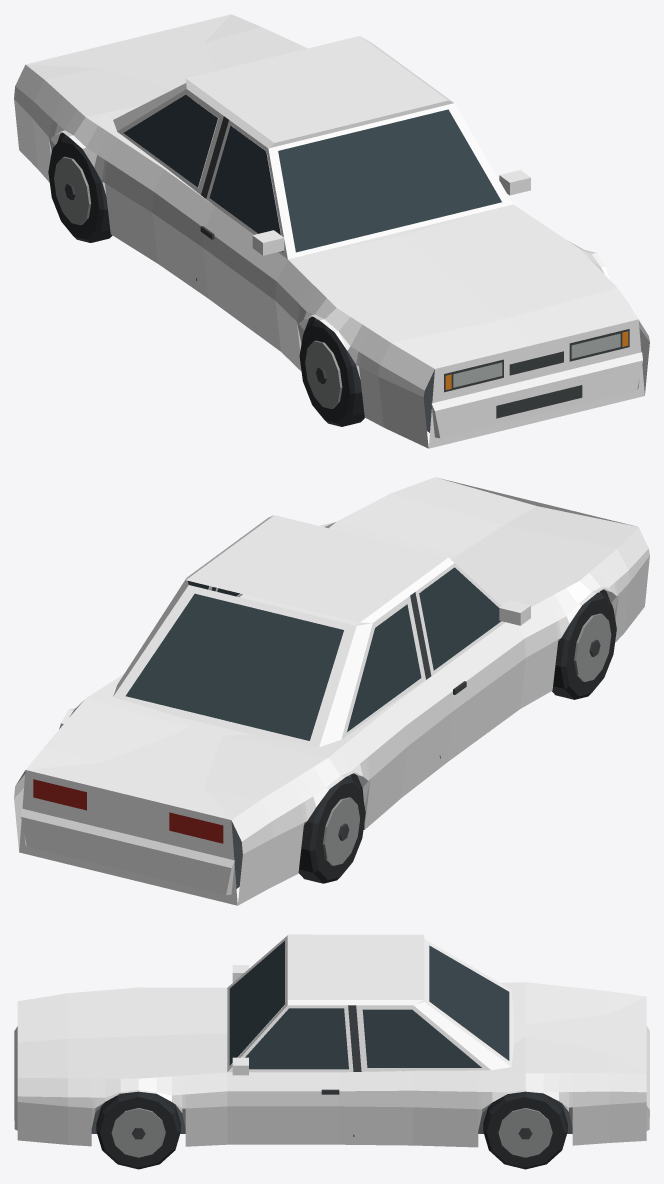
The model's file is hayase_akane.glb.
The picture shows the model from 3 angles, top to bottom: view 1: azimuth 30°, elevation 25°; view 2: azimuth 150°, elevation 25°; view 3: azimuth 270°, elevation 25°; orthographic projection. The views are drawn at different scales.
Parts seen in each view (by area): view 1: hayase_akane; view 2: hayase_akane; view 3: hayase_akane.
Part boxes in pixels (x1,y1,x2,y2): hayase_akane: [14, 14, 649, 448]; hayase_akane: [14, 477, 649, 905]; hayase_akane: [14, 934, 649, 1169].
Bounding box in the file's own units: 1.82 × 1.25 × 4.7.
Materials: 8 (1 with a texture image).
